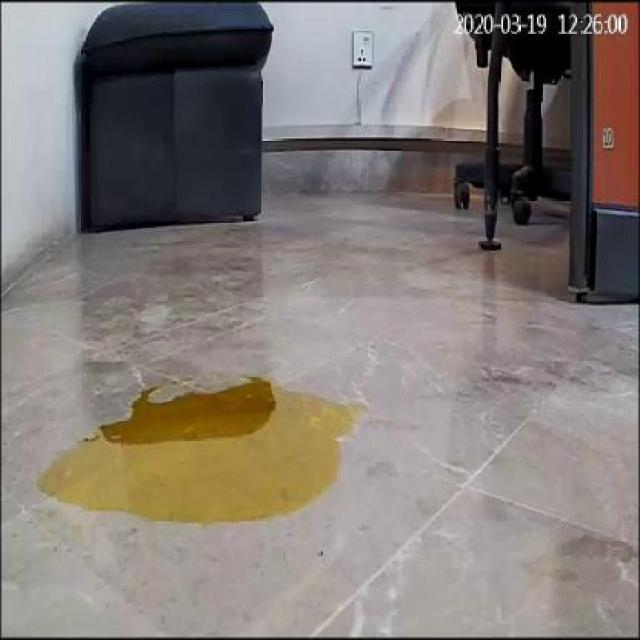spill: (38, 353, 367, 532)
